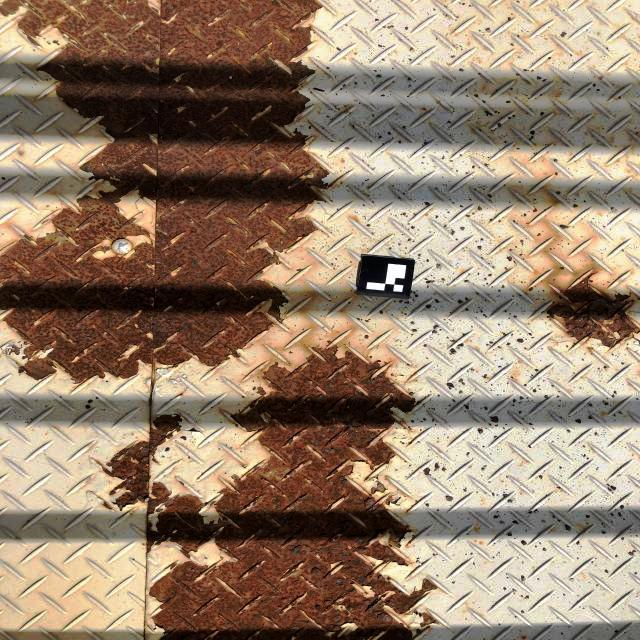Corrosion: (0, 0, 326, 381), (94, 343, 444, 640), (547, 280, 640, 347), (101, 500, 115, 510)
